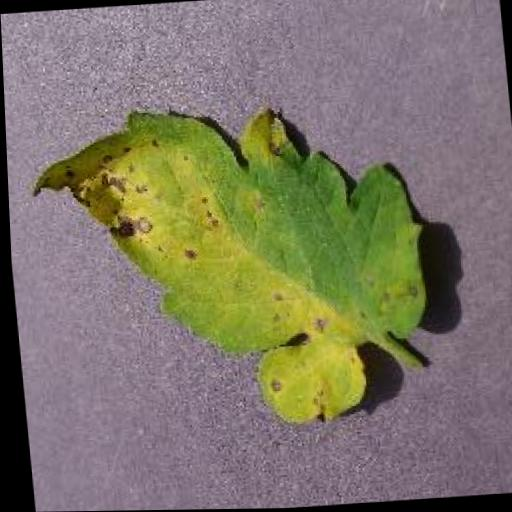Septoria: (25, 91, 444, 441)
